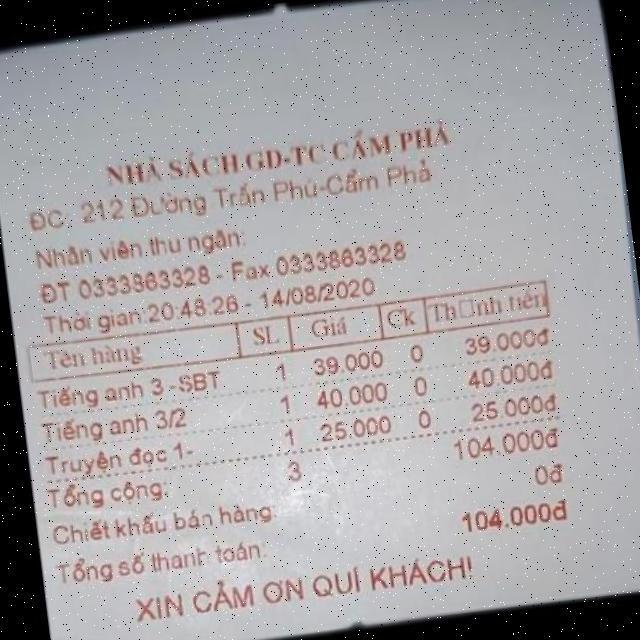Date: (249, 274, 376, 313)
Store_Name: (78, 108, 472, 198)
amount_number: (451, 490, 585, 544)
label_total: (50, 538, 278, 586)
